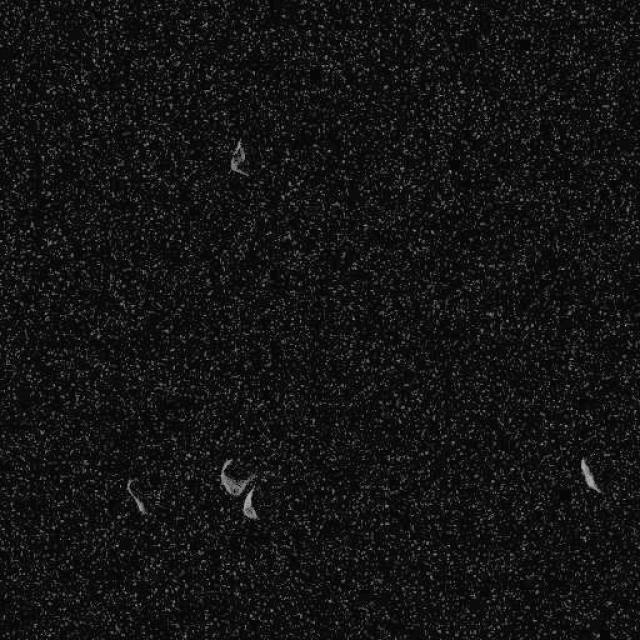D2: (218, 455, 262, 521), (125, 476, 147, 516), (579, 455, 601, 494), (228, 138, 250, 176)
